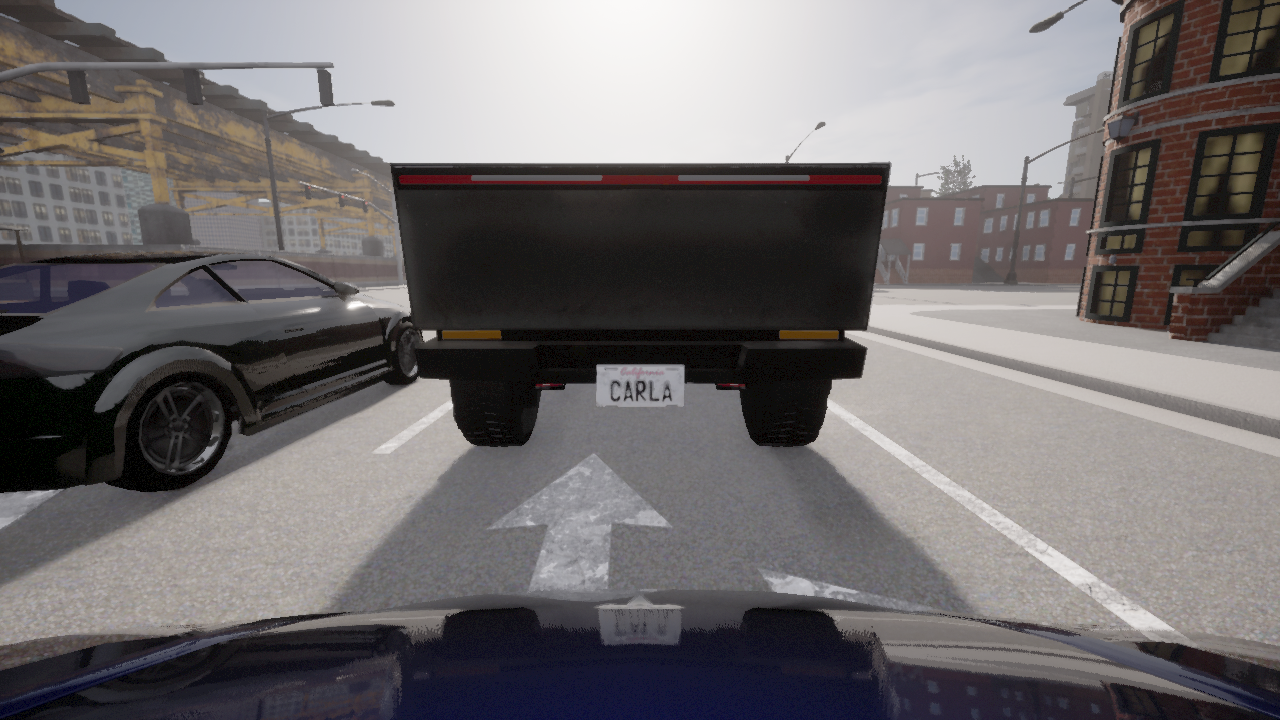cyclist: (0, 588, 1279, 719), (390, 162, 890, 446), (0, 250, 424, 492)
